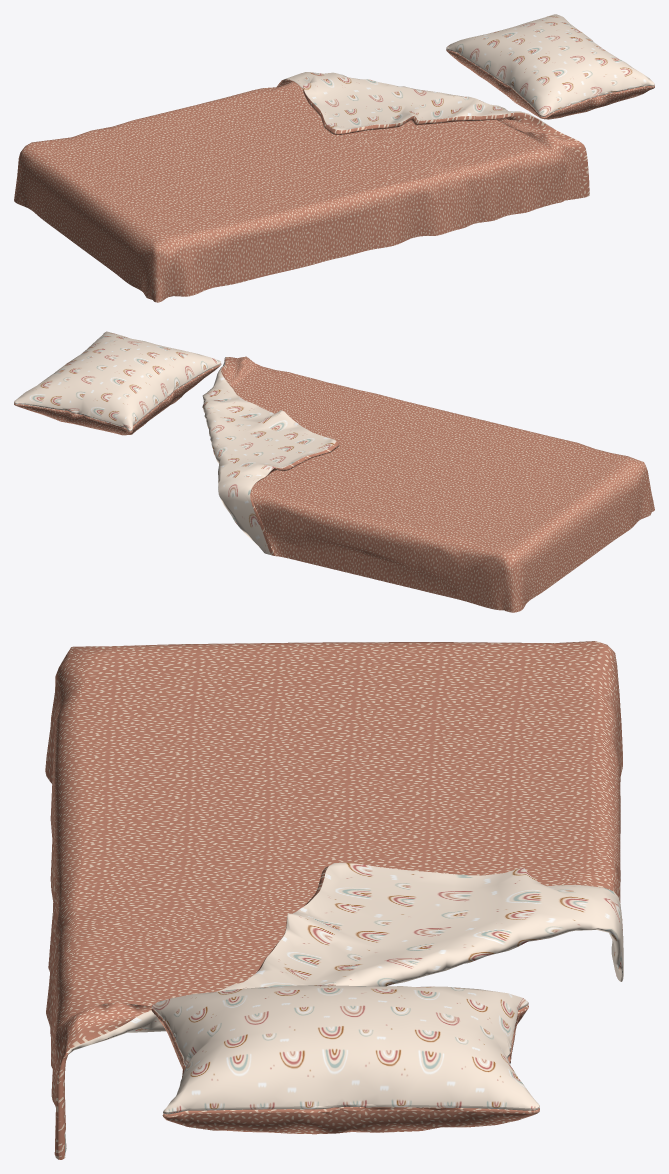
The picture shows the model from 3 angles, top to bottom: view 1: azimuth 30°, elevation 25°; view 2: azimuth 150°, elevation 25°; view 3: azimuth 270°, elevation 25°; orthographic projection. The views are drawn at different scales.
Parts seen in each view (by area): view 1: _linFront, _linpF, _linBack01, _linpb01; view 2: _linFront, _linpF, _linBack01, _linpb01; view 3: _linFront, _linpF, _linBack01, _linpb01.
Boxes of the visible parts, left/top/right/bottom form: _linFront: left=14, top=79, right=589, bottom=302; _linpF: left=446, top=14, right=654, bottom=116; _linBack01: left=283, top=72, right=570, bottom=178; _linpb01: left=446, top=49, right=654, bottom=119; _linFront: left=221, top=356, right=654, bottom=612; _linpF: left=14, top=331, right=221, bottom=431; _linBack01: left=202, top=357, right=336, bottom=554; _linpb01: left=14, top=364, right=221, bottom=435; _linFront: left=45, top=641, right=622, bottom=1159; _linpF: left=151, top=985, right=539, bottom=1114; _linBack01: left=64, top=862, right=623, bottom=1155; _linpb01: left=151, top=1005, right=539, bottom=1134.
Size of the model in its own units: 2.01 by 0.3405 by 0.9579.
4 materials, 4 textured.
